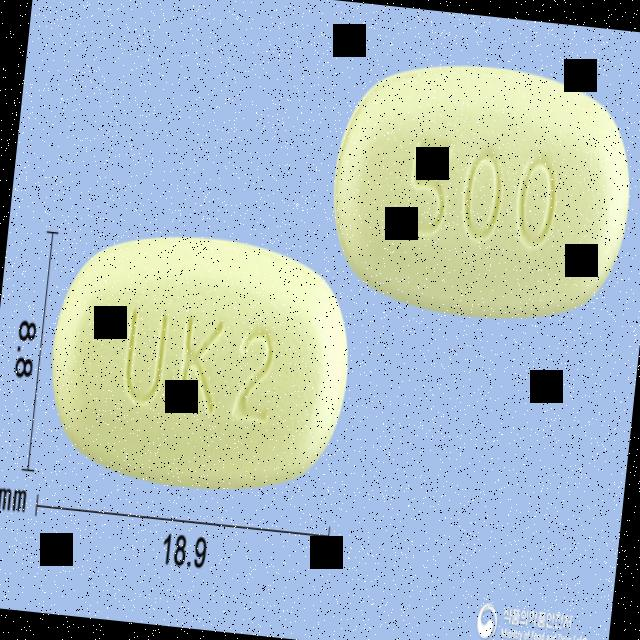Clazin: (37, 219, 362, 505), (321, 50, 640, 330)
